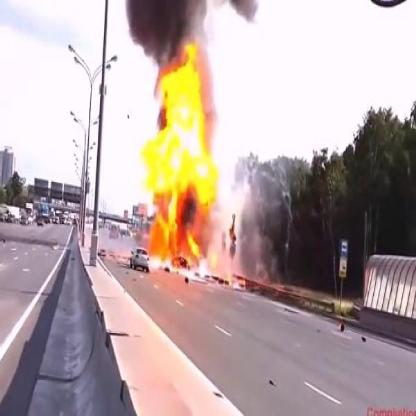fire: (136, 37, 222, 208), (149, 209, 207, 279), (227, 268, 247, 288)
